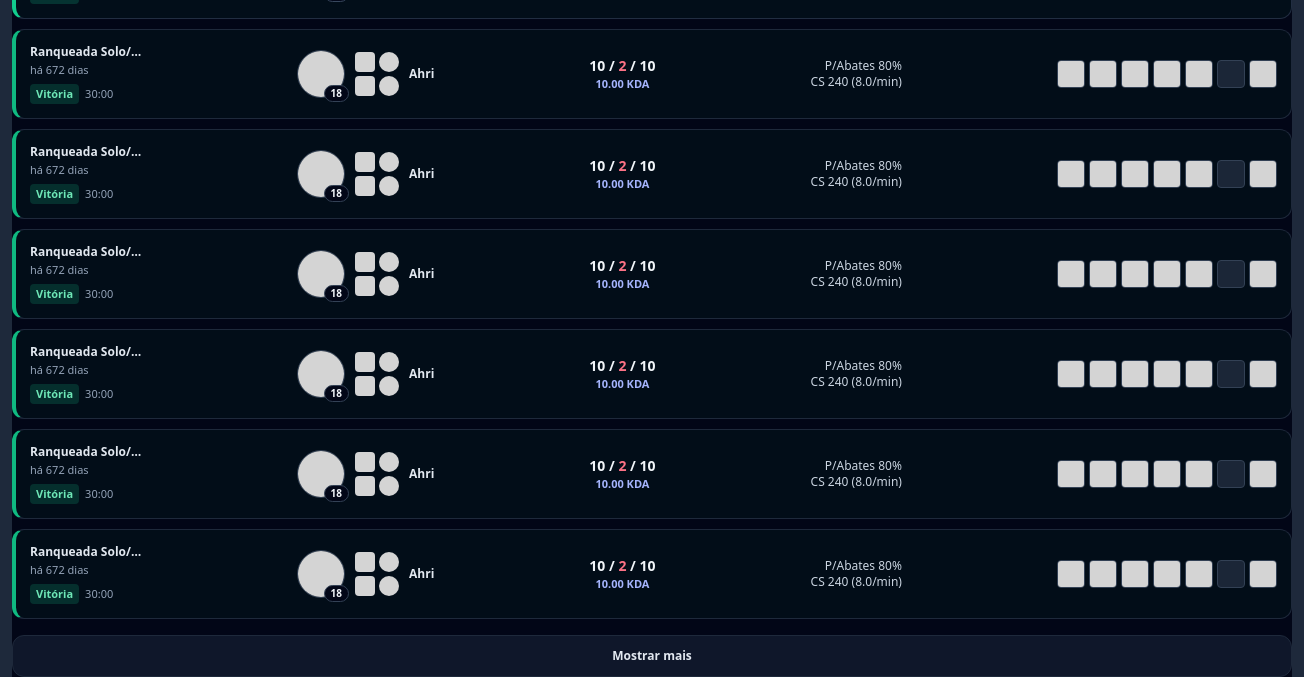
Scenario: MatchHistory › HIST-05 hides Mostrar mais when no more matches exist
(page scrolled)
Click the button with test id "history-load-more" at (652, 656), box [12, 635, 1292, 676]
(page scrolled)
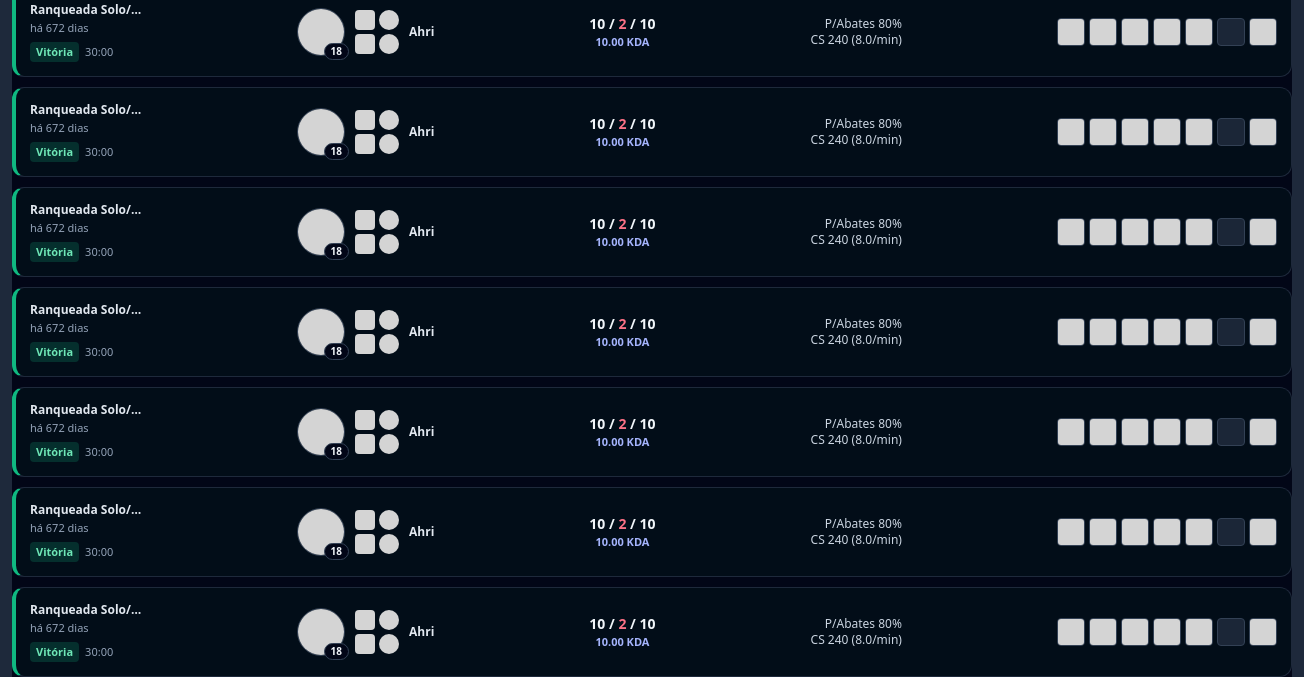
expect the element with test id "match-card-BR1_P_OLD_1" is shown: met, box [12, 587, 1292, 676]
expect the button with test id "history-load-more" is gone: met
